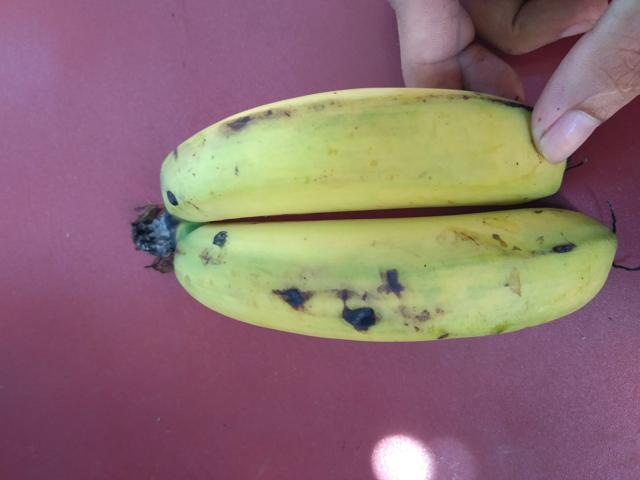ripe: (142, 198, 630, 370), (129, 58, 559, 224)
